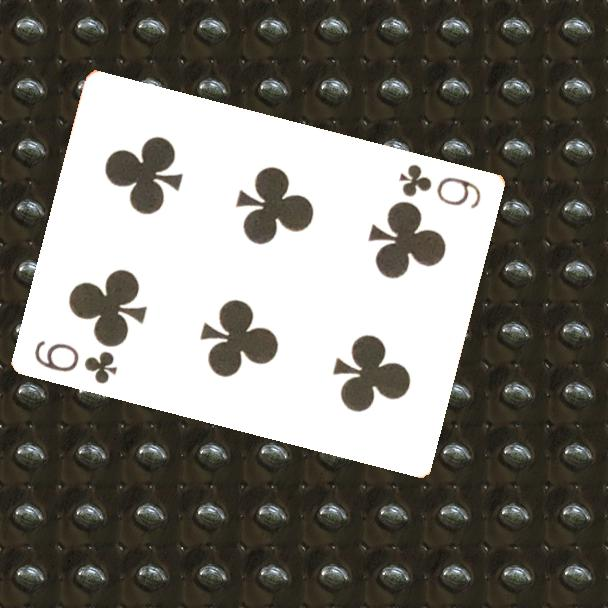c06: (396, 160, 485, 212), (31, 336, 121, 387)
